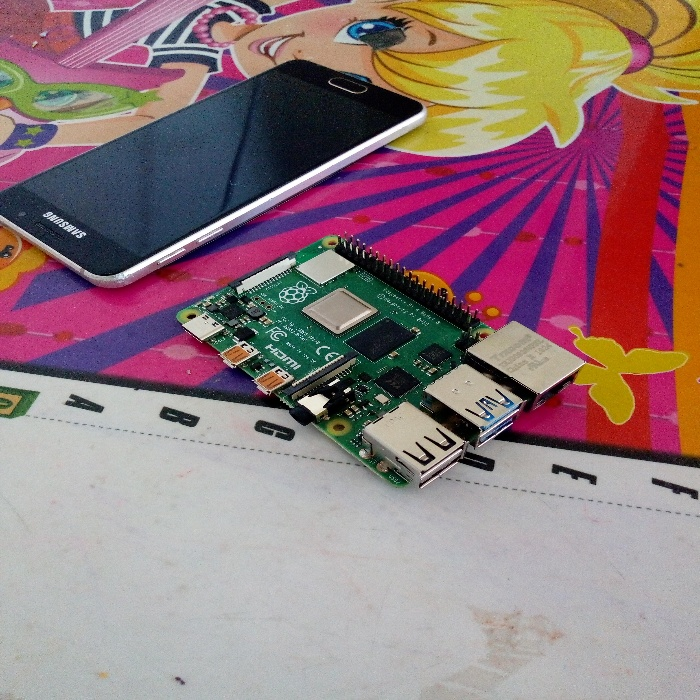raspberry: (170, 227, 598, 491)
